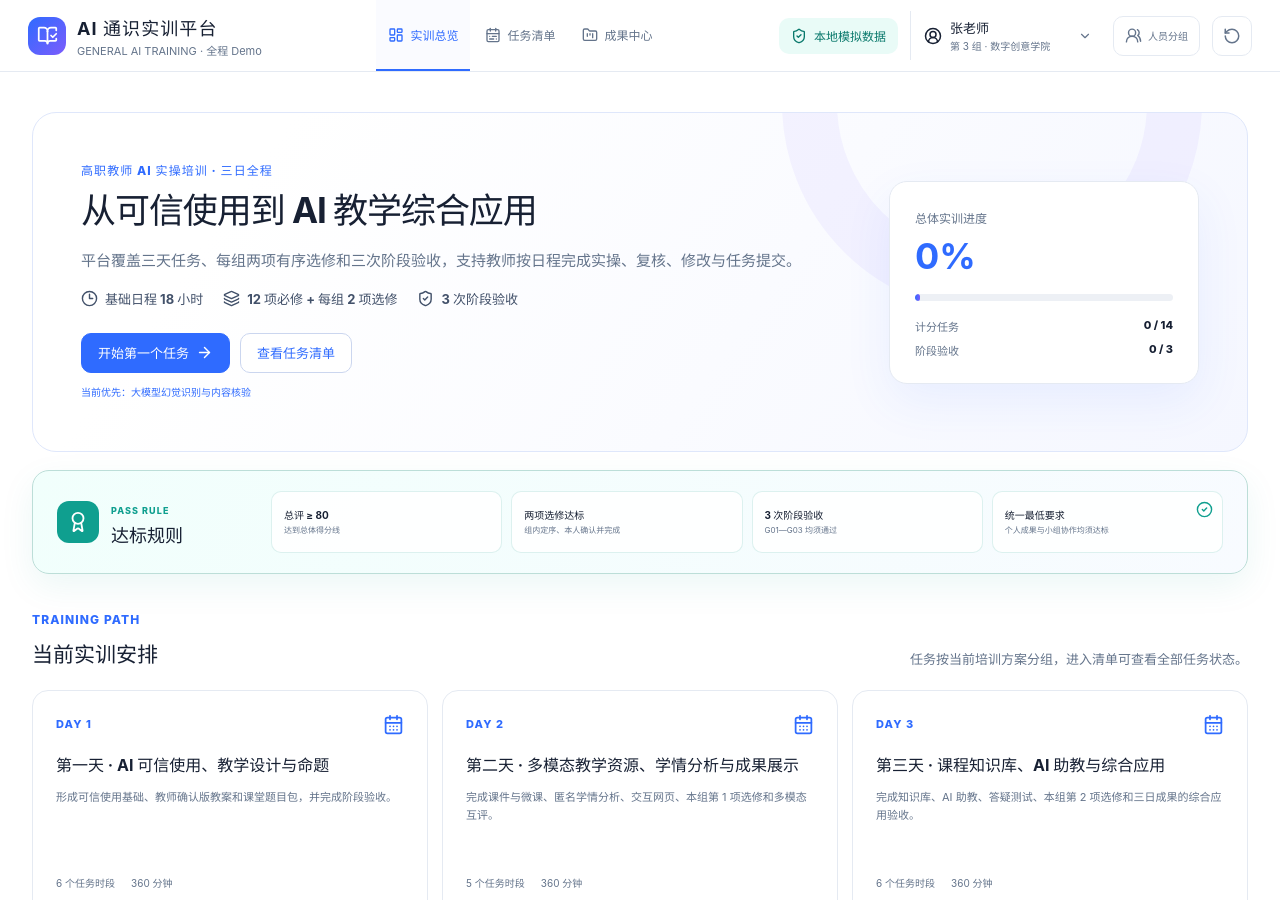
Test: AI 通识实训平台 Demo 关键交互 › M01 未通过时也可直接进入 M02 工作台
What coordinates should you click on to do the following:
click the button "查看任务清单"
I would click on:
 (296, 353)
Its box is left=240, top=333, right=352, bottom=373.
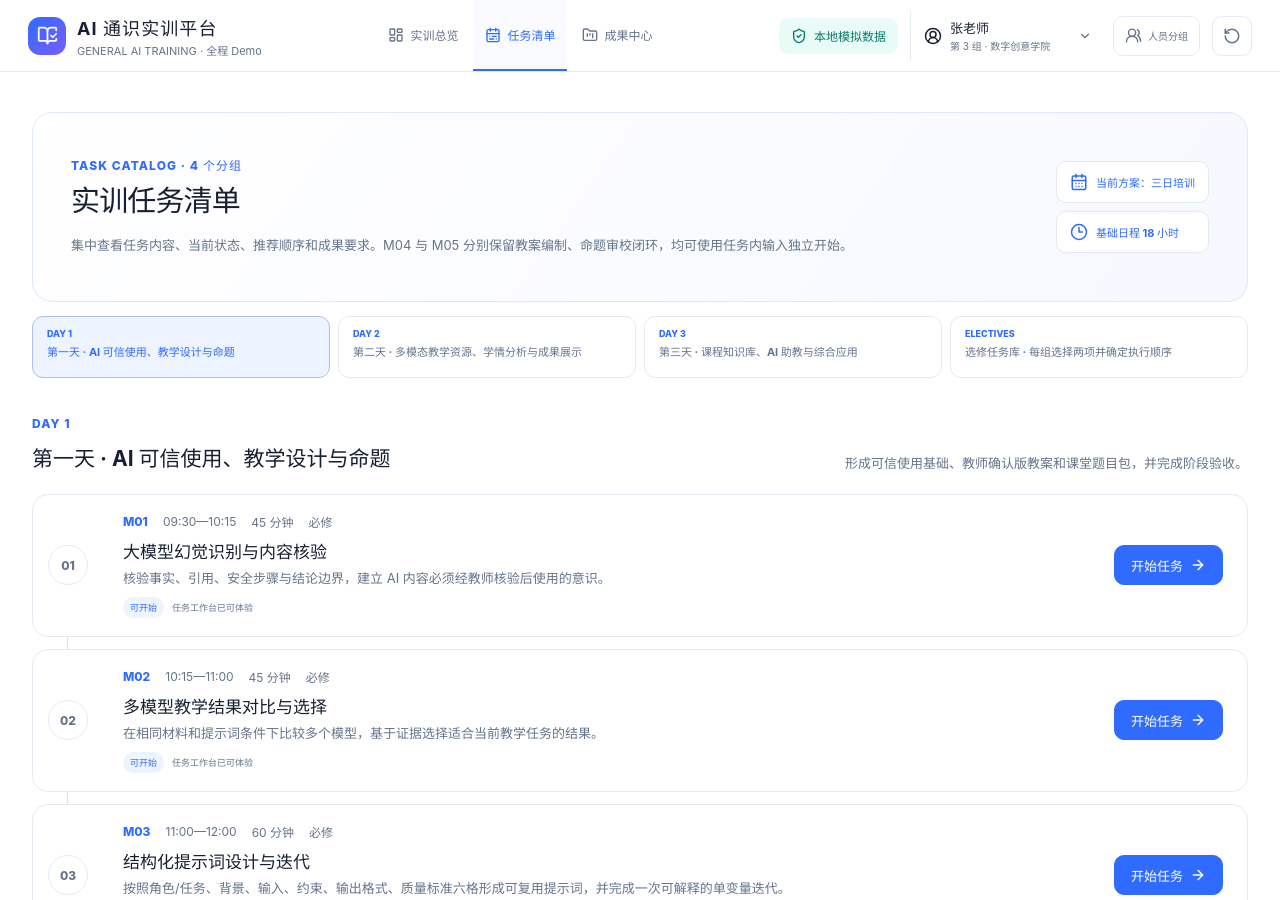
Now the heading "实训任务清单" is shown, box left=71, top=183, right=240, bottom=218
Now the text "M02" is shown, box left=123, top=669, right=150, bottom=684
What coordinates should you click on to do the following:
click the button "开始任务" in the row of "在相同材料和提示词条件下比较多个模型，基于证据选择适合当前教学任务的结果。"
I would click on:
 (1168, 720)
Its box is left=1114, top=700, right=1223, bottom=740.
(page scrolled)
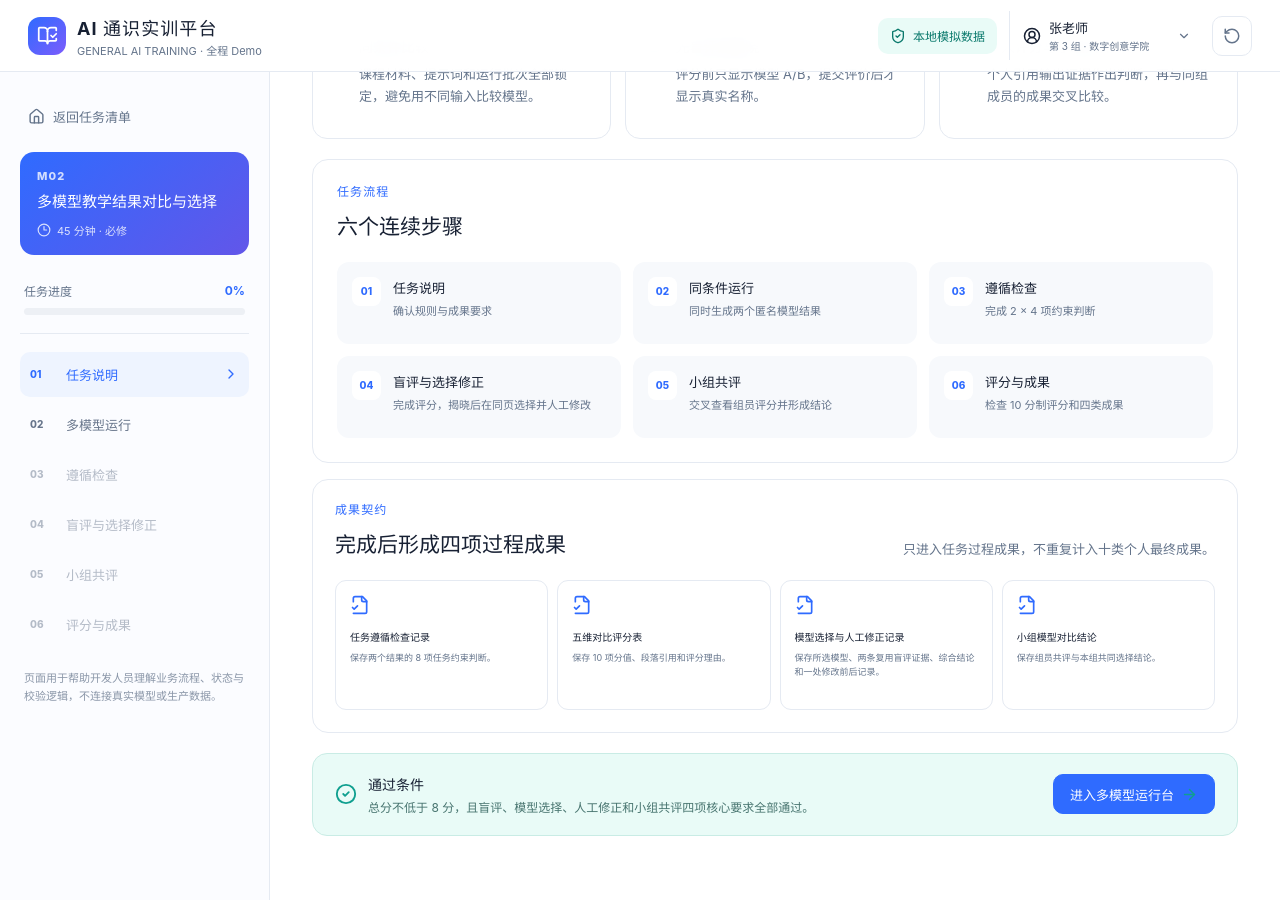
Now the button "进入多模型运行台" is enabled, box left=1053, top=774, right=1215, bottom=814
